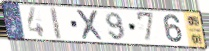4: (28, 6, 46, 39)
6: (163, 13, 184, 45)
7: (136, 11, 156, 45)
9: (104, 12, 126, 42)
I: (49, 7, 64, 40)
X: (75, 8, 105, 41)
